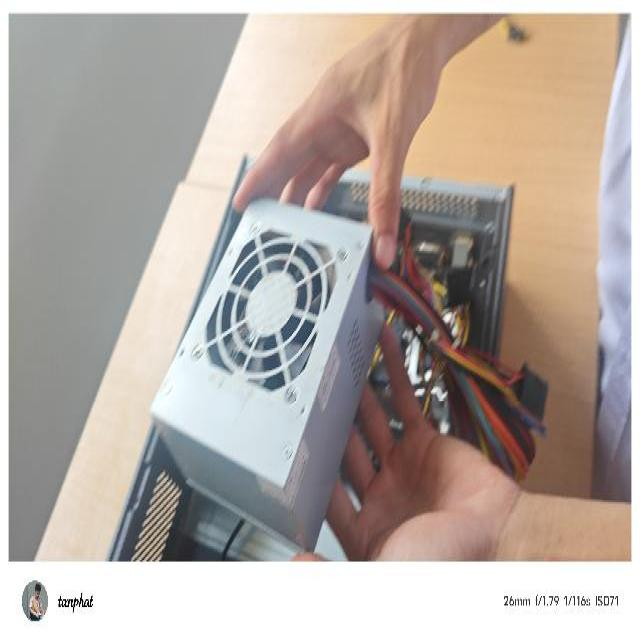PSU: (144, 164, 423, 550)
